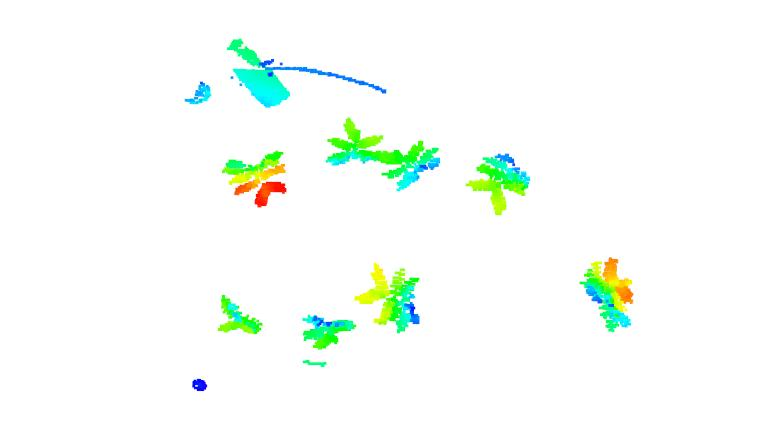chickpea: (352, 263, 423, 335), (580, 256, 639, 332), (466, 151, 534, 215), (220, 149, 288, 207), (380, 140, 442, 189), (321, 117, 384, 165), (297, 311, 356, 351), (211, 295, 264, 337)
